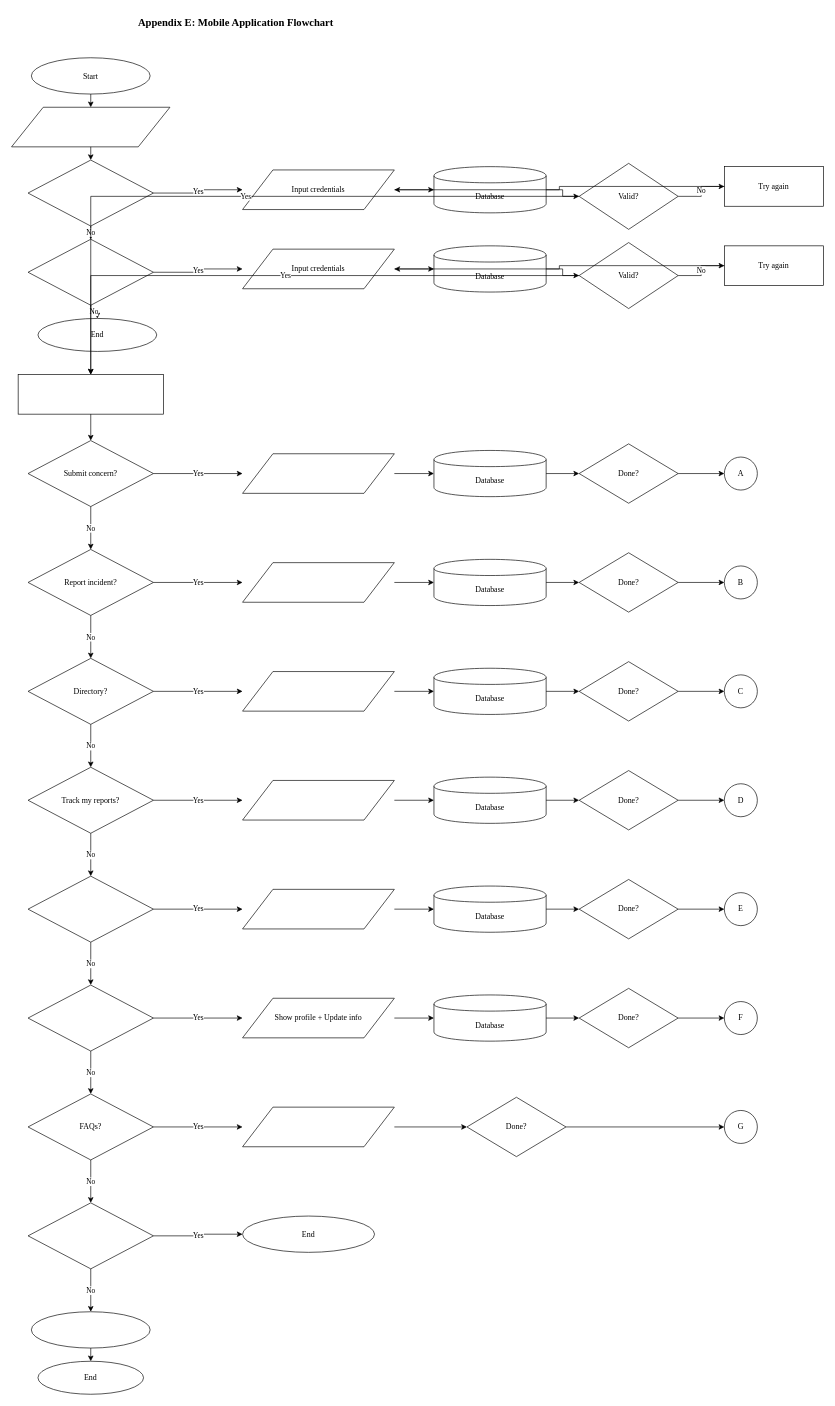
Image size: 835x1406. Some labels were removed from this diagram. Each missing label, with the centre of its shape:
Community updates?: the point at 90,908
Done: the point at 90,1329
Initialize Mobile App: the point at 90,127
Input incident details: the point at 318,582
Input location + details: the point at 318,473
Login?: the point at 90,192
Logout?: the point at 90,1235
My Account?: the point at 90,1017
Show advisories: the point at 318,909
Show FAQs: the point at 318,1126
Show Home: the point at 90,394
Show hotlines + officials: the point at 318,691
Show my reports + status: the point at 318,800
Sign Up?: the point at 90,272
